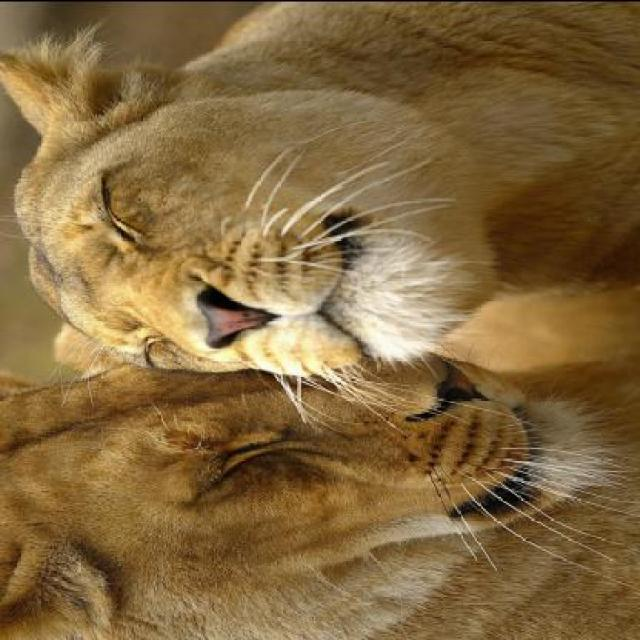Lion: (9, 15, 638, 372), (0, 360, 637, 637)
